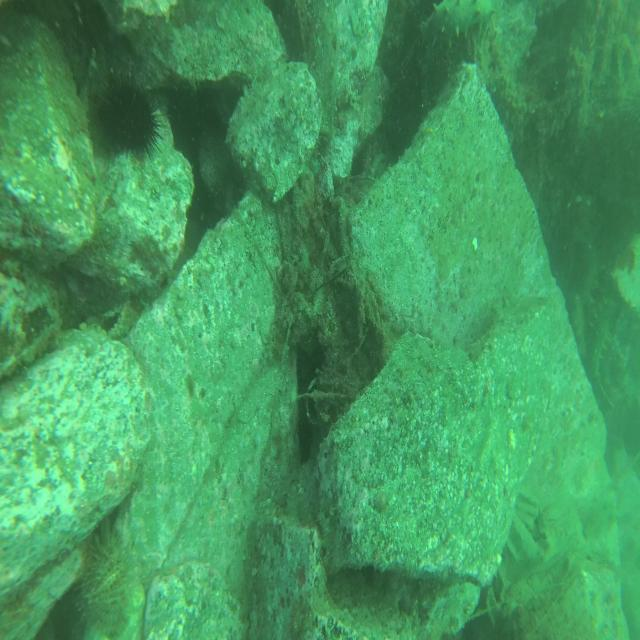echinus: (74, 527, 130, 640), (98, 71, 164, 160), (589, 299, 620, 388), (578, 250, 604, 309)
holothurian: (414, 0, 498, 76), (502, 558, 566, 615), (100, 292, 138, 348)
